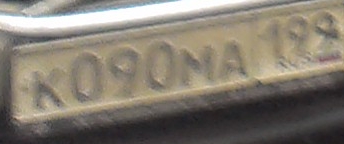character: (68, 48, 105, 106), (105, 44, 143, 100), (143, 38, 176, 93), (176, 44, 215, 89), (32, 64, 65, 113), (216, 38, 249, 85), (312, 8, 341, 58), (283, 12, 310, 63), (255, 16, 282, 66)
